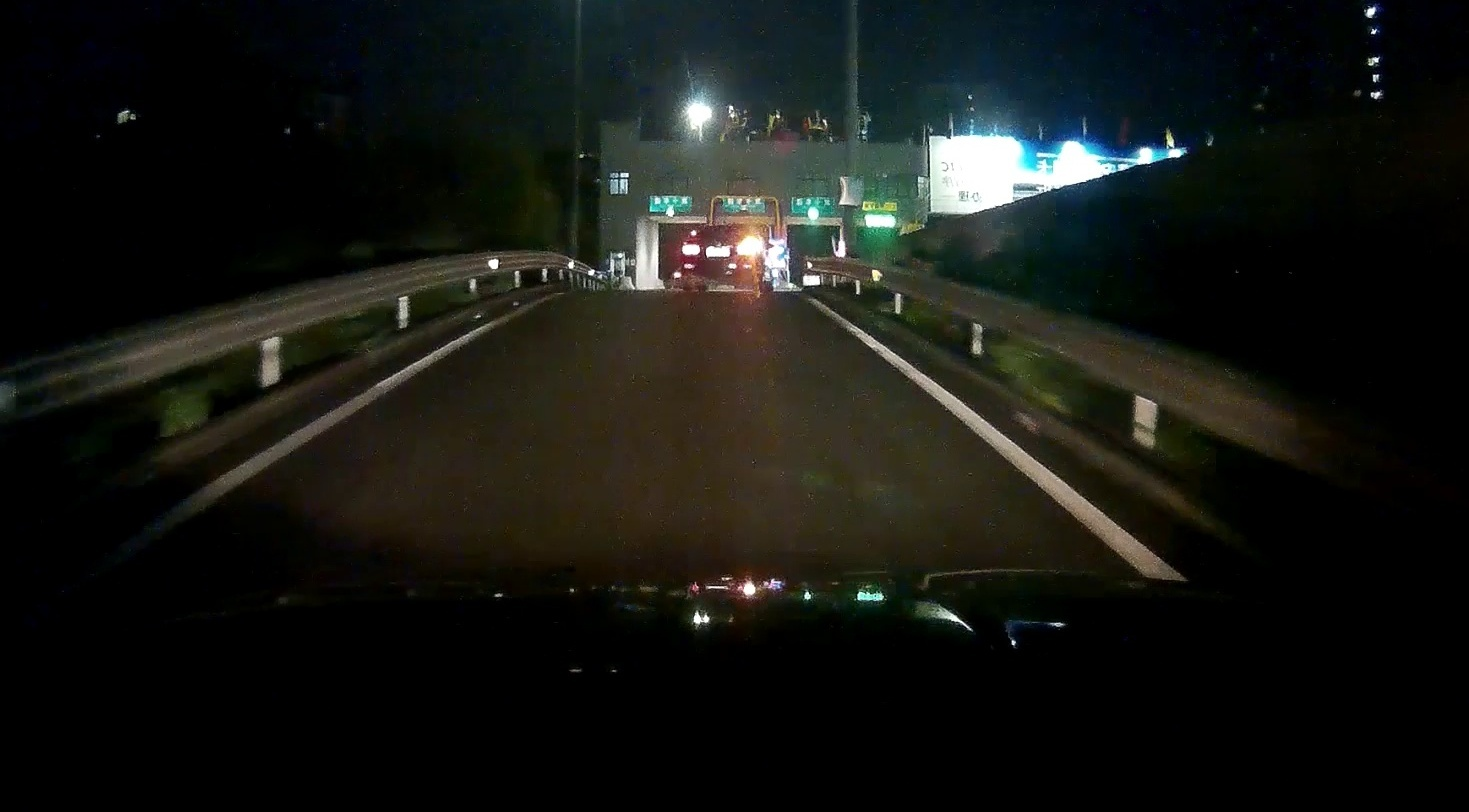L_light: (681, 236, 701, 256)
R_light: (737, 236, 759, 256)
T_light: (720, 225, 733, 229)
night-right: (679, 223, 763, 291)
